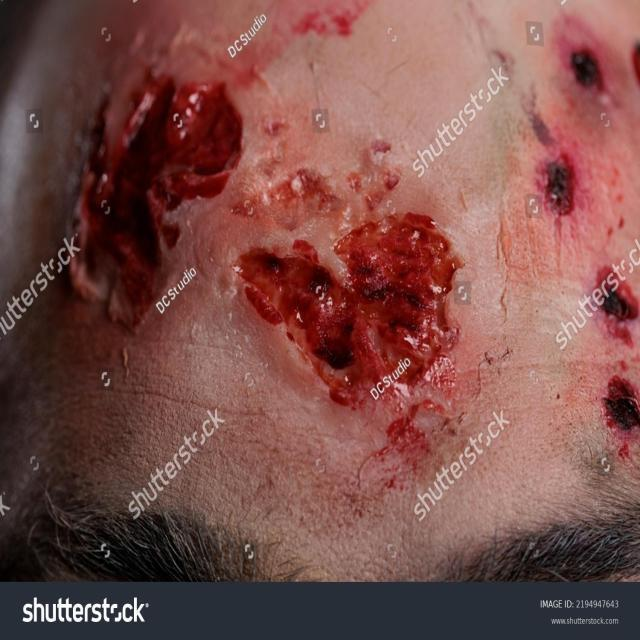flood: (258, 212, 489, 422), (54, 65, 250, 308), (539, 36, 640, 445)
